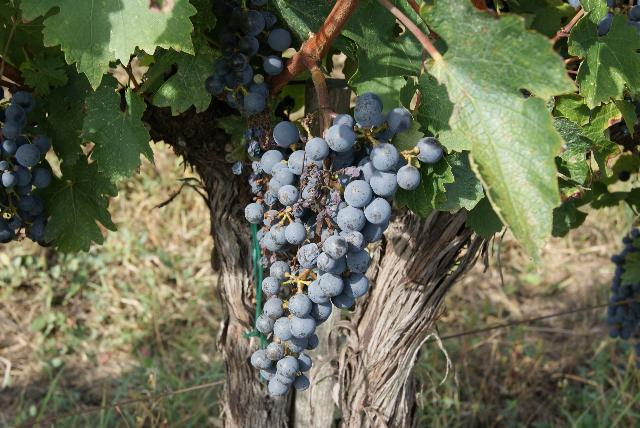grapes: (250, 92, 444, 396)
